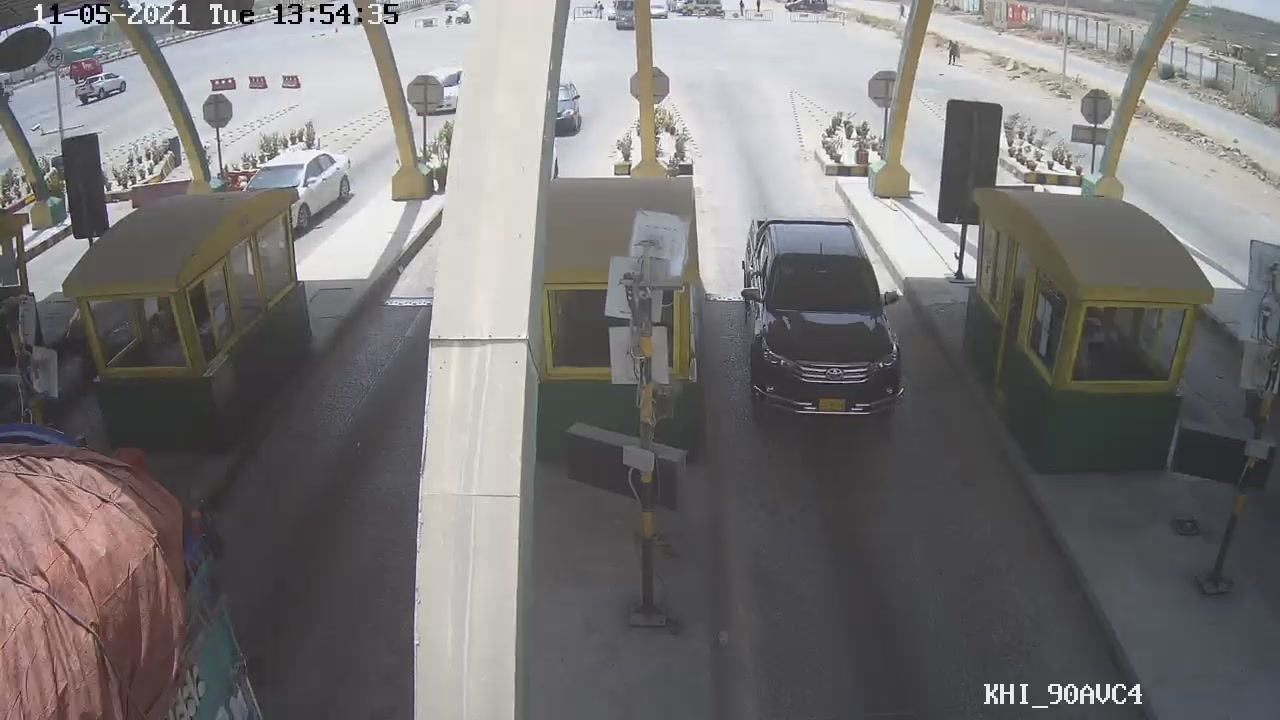F1: (728, 203, 915, 436)
